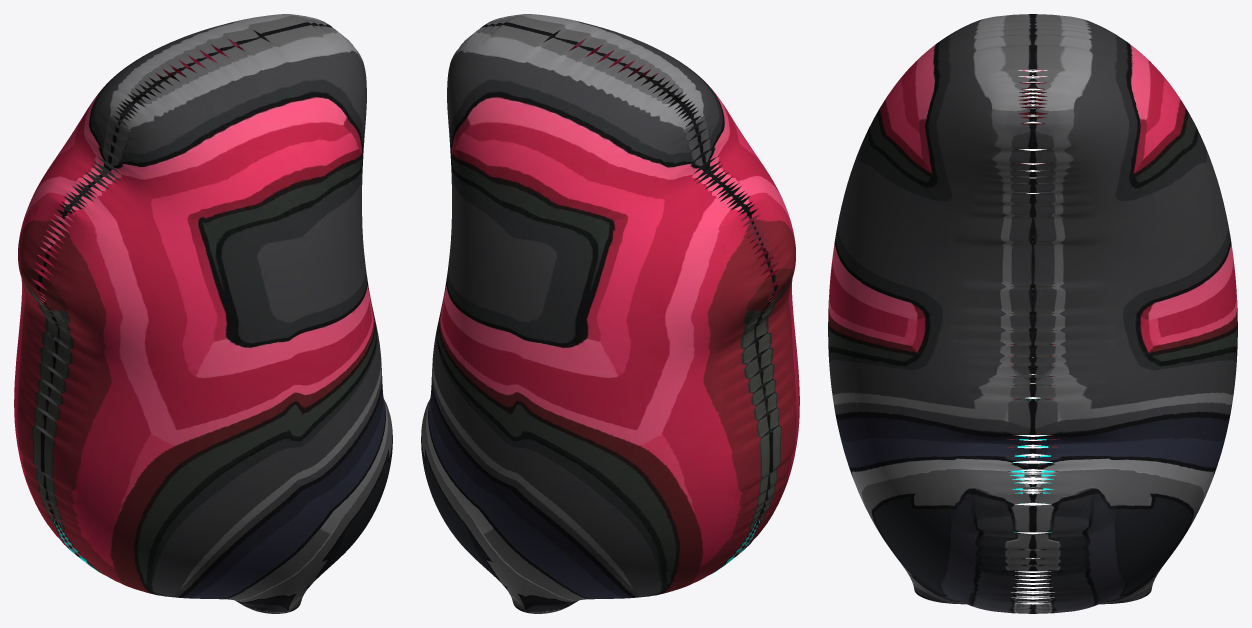
The model's file is side_joint.glb.
The picture shows the model from 3 angles, left to right: view 1: azimuth 30°, elevation 25°; view 2: azimuth 150°, elevation 25°; view 3: azimuth 270°, elevation 25°; orthographic projection. The views are drawn at different scales.
Visible parts, largest first — view 1: side_joint; view 2: side_joint; view 3: side_joint.
Part boxes in pixels (x1,y1,x2,y2): side_joint: [14, 14, 392, 613]; side_joint: [421, 14, 799, 613]; side_joint: [828, 14, 1237, 613].
Bounding box in the file's own units: 0.9831 × 1.5 × 0.9943.
Materials: 1 (1 with a texture image).
